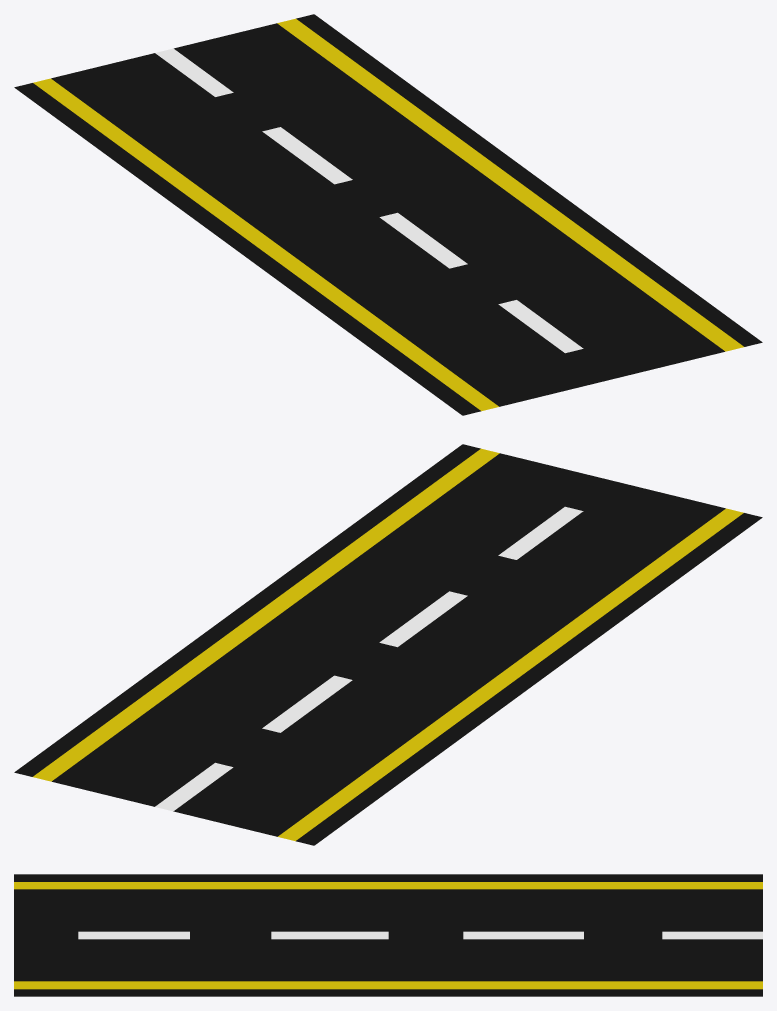
The model's file is calle 1.fbx.
3 views of the same model, one above another, from view 1: azimuth 30°, elevation 25°; view 2: azimuth 150°, elevation 25°; view 3: azimuth 270°, elevation 25° (orthographic). The views are drawn at different scales.
Parts seen in each view (by area): view 1: Plano; view 2: Plano; view 3: Plano.
Part boxes in pixels (left/top/right/bottom): Plano: left=14, top=14, right=762, bottom=415; Plano: left=14, top=444, right=762, bottom=845; Plano: left=14, top=874, right=762, bottom=996.
Bounding box in the file's own units: 1384 × 0.00027 × 3582.
